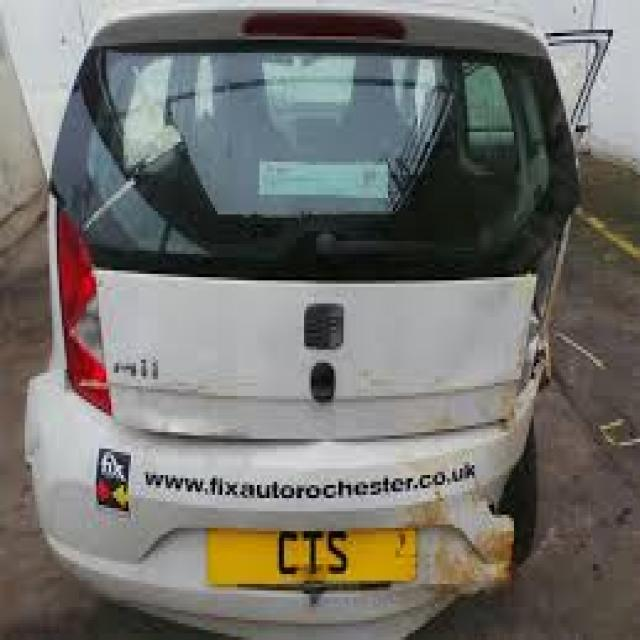moderate: (445, 162, 603, 639)
